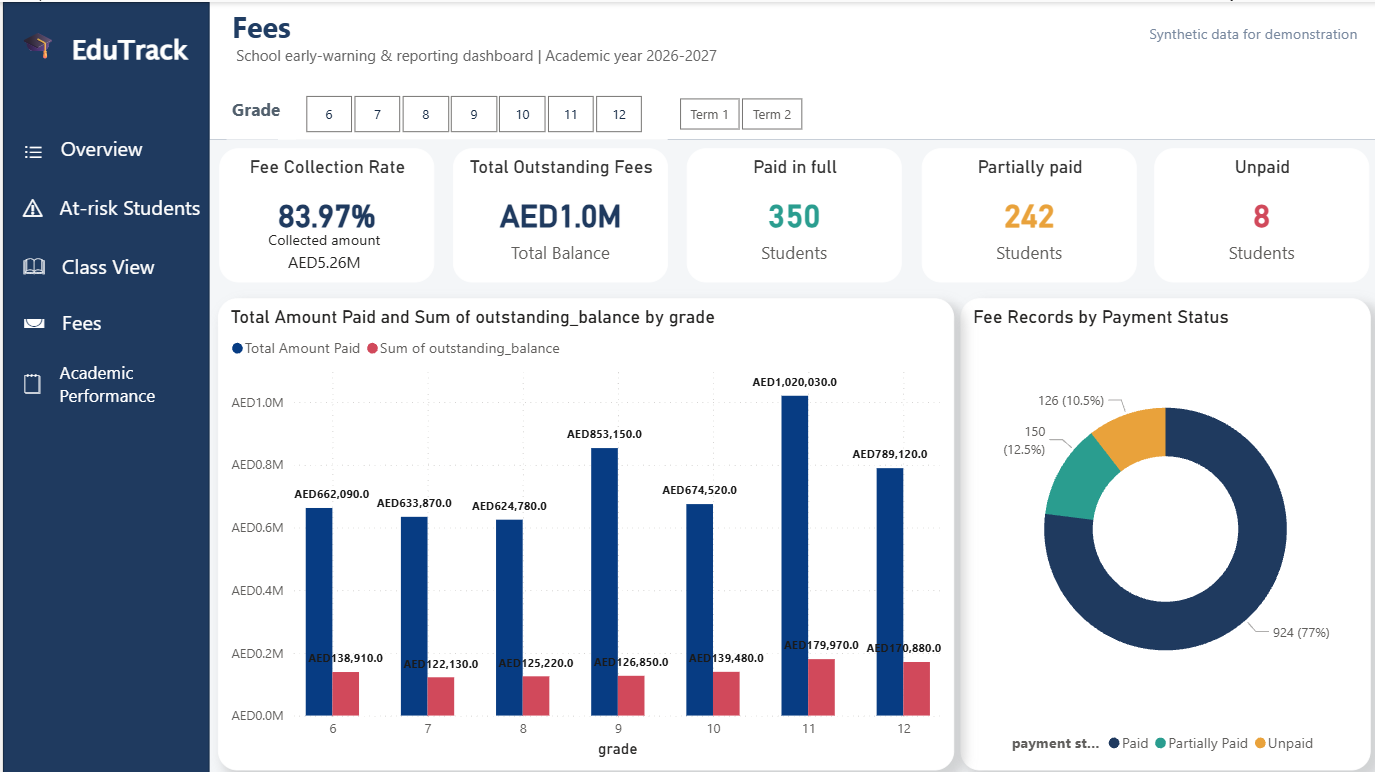

Layout of this report page (visuals, bound fields, positions):
{"tool":"powerbi","page":{"name":"Fees","canvas":[1280,720],"ordinal":6},"visuals":[{"type":"shape","box":[192,0,1088,128],"z":0},{"type":"textbox","box":[58.8,22.5,137.5,52.5],"z":0,"group":"g4"},{"type":"textbox","box":[48.8,118.4,112.5,40],"z":0,"group":"g3"},{"type":"textbox","box":[48.1,173,192.1,38.1],"z":0,"group":"g1"},{"type":"textbox","box":[50.1,227.8,150,38.8],"z":0,"group":"g2"},{"type":"textbox","box":[49.8,280,62.5,45],"z":0,"group":"g5"},{"type":"shape","box":[0,0,192.2,720.3],"z":1000},{"type":"textbox","box":[8.8,15,58.8,46.2],"z":1000,"group":"g4"},{"type":"textbox","box":[0,124.6,58.8,33.8],"z":1000,"group":"g3"},{"type":"textbox","box":[8.4,170.5,51.2,51.6],"z":1000,"group":"g1"},{"type":"textbox","box":[12.6,227.8,42.5,43.8],"z":1000,"group":"g2"},{"type":"textbox","box":[12.3,270,53.8,57.5],"z":1000,"group":"g5"},{"type":"group","id":"g1","title":"Group 1","box":[8.4,170.5,231.7,51.6],"z":2000},{"type":"group","id":"g2","title":"Group 2","box":[12.6,227.8,187.5,43.8],"z":3000},{"type":"group","id":"g3","title":"Group 3","box":[0,118.4,161.2,40],"z":4000},{"type":"group","id":"g4","title":"Group 4","box":[8.8,15,187.5,60],"z":5000},{"type":"group","id":"g5","title":"Group 5","box":[12.3,270,100,57.5],"z":6000},{"type":"slicer","fields":{"Values":["view_student_warning.grade"]},"box":[255.8,80.2,362.8,47.7],"z":7000},{"type":"textbox","box":[208,0,688,64],"z":8000},{"type":"textbox","box":[208,64,64,64],"z":9000},{"type":"textbox","box":[1061.6,15.3,218.4,36.2],"z":10000},{"type":"actionButton","box":[12,117.7,138.1,39.6],"z":11000},{"type":"actionButton","box":[8.3,228.2,165.6,40.3],"z":12000},{"type":"actionButton","box":[9.7,279.7,132.2,40.3],"z":13000},{"type":"card","title":"Total Outstanding Fees","fields":{"Values":["fees.Outstanding Fees"]},"box":[418.6,136,200,124.4],"z":14000},{"type":"card","title":"Paid in full","fields":{"Values":["fees.fully paid students"]},"box":[636,136,200,124.4],"z":15000},{"type":"card","title":"Fee Collection Rate","fields":{"Values":["fees.Fee Collection %"]},"box":[201.4,136,199.9,125],"z":16000,"group":"g7"},{"type":"card","title":"Partially paid","fields":{"Values":["fees.partially paid students"]},"box":[854.7,136,200,124.4],"z":16000},{"type":"card","title":"Unpaid","fields":{"Values":["fees.unpaid students"]},"box":[1070.9,136,200,124.4],"z":17000},{"type":"slicer","fields":{"Values":["fees.term"]},"box":[603.5,82.6,164,43],"z":18000},{"type":"donutChart","title":"Fee Records by Payment Status","fields":{"Category":["fees.payment_status"],"Y":["CountNonNull(fees.fee_id)"]},"box":[890.7,275.6,381.4,439.5],"z":19000},{"type":"clusteredColumnChart","fields":{"Y":["fees.Total Amount Paid","Sum(view_student_warning.outstanding_balance)"],"Category":["students.grade"]},"box":[200,275.6,684.9,439.5],"z":20000},{"type":"group","id":"g6","title":"Group 6","box":[201.4,136,200,124.4],"z":21000},{"type":"card","title":"Collected amount","fields":{"Values":["fees.Total Amount Paid"]},"box":[213.9,211.6,170,43],"z":21000,"group":"g7"},{"type":"group","id":"g7","title":"Group 7","box":[201.4,136,199.9,125],"z":21004,"group":"g6"},{"type":"group","id":"g8","title":"Group 6","box":[11.6,327.9,168.6,57],"z":22000},{"type":"textbox","box":[11.6,333.7,38.4,46.5],"z":22000,"group":"g8"},{"type":"textbox","box":[47.6,327.9,132.6,57],"z":23000,"group":"g8"},{"type":"actionButton","box":[14,337.2,147.7,39.5],"z":23000},{"type":"actionButton","box":[4.2,176.7,175.3,40.3],"z":24000}]}

Visuals, with their boxes on the page's 1280x720 design canvas (x1, y1, x2, y2). These are canvas units, not pixel positions in the 1375x772 screenshot, which may show the page scaled, cropped or inside an application window:
shape: region(192, 0, 1280, 128)
textbox: region(59, 22, 196, 75)
textbox: region(49, 118, 161, 158)
textbox: region(48, 173, 240, 211)
textbox: region(50, 228, 200, 267)
textbox: region(50, 280, 112, 325)
shape: region(0, 0, 192, 720)
textbox: region(9, 15, 68, 61)
textbox: region(0, 125, 59, 158)
textbox: region(8, 170, 60, 222)
textbox: region(13, 228, 55, 272)
textbox: region(12, 270, 66, 328)
"Group 1" group: region(8, 170, 240, 222)
"Group 2" group: region(13, 228, 200, 272)
"Group 3" group: region(0, 118, 161, 158)
"Group 4" group: region(9, 15, 196, 75)
"Group 5" group: region(12, 270, 112, 328)
slicer - view_student_warning.grade: region(256, 80, 619, 128)
textbox: region(208, 0, 896, 64)
textbox: region(208, 64, 272, 128)
textbox: region(1062, 15, 1280, 52)
actionButton: region(12, 118, 150, 157)
actionButton: region(8, 228, 174, 268)
actionButton: region(10, 280, 142, 320)
"Total Outstanding Fees" card: region(419, 136, 619, 260)
"Paid in full" card: region(636, 136, 836, 260)
"Fee Collection Rate" card: region(201, 136, 401, 261)
"Partially paid" card: region(855, 136, 1055, 260)
"Unpaid" card: region(1071, 136, 1271, 260)
slicer - fees.term: region(604, 83, 768, 126)
"Fee Records by Payment Status" donutChart: region(891, 276, 1272, 715)
clusteredColumnChart - fees.Total Amount Paid x Sum(view_student_warning.outstanding_balance): region(200, 276, 885, 715)
"Group 6" group: region(201, 136, 401, 260)
"Collected amount" card: region(214, 212, 384, 255)
"Group 7" group: region(201, 136, 401, 261)
"Group 6" group: region(12, 328, 180, 385)
textbox: region(12, 334, 50, 380)
textbox: region(48, 328, 180, 385)
actionButton: region(14, 337, 162, 377)
actionButton: region(4, 177, 180, 217)
